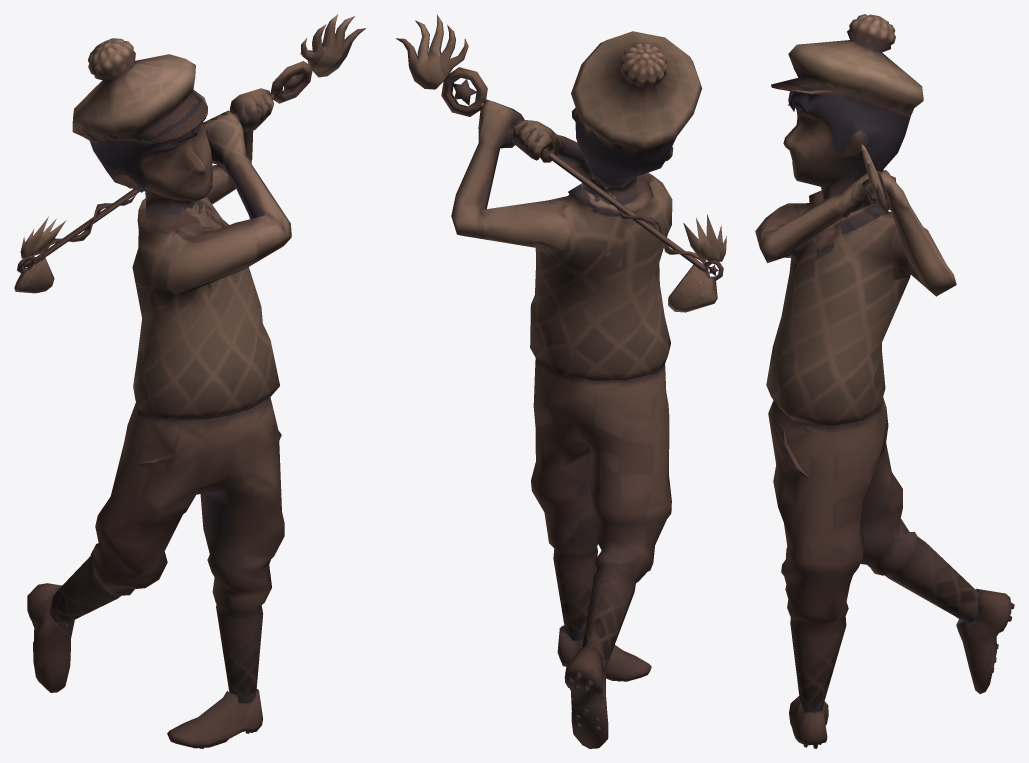
Rendered from golf_swing_pose.glb.
3 views of the same model, side by side, from view 1: azimuth 30°, elevation 25°; view 2: azimuth 150°, elevation 25°; view 3: azimuth 270°, elevation 25° (orthographic). The views are drawn at different scales.
Visible parts, largest first — view 1: golf_swing_pose_lowpoly; view 2: golf_swing_pose_lowpoly; view 3: golf_swing_pose_lowpoly.
Part boxes in pixels (x1,y1,x2,y2): golf_swing_pose_lowpoly: (14,14,365,748); golf_swing_pose_lowpoly: (395,14,726,748); golf_swing_pose_lowpoly: (755,14,1014,748).
Size of the model in its own units: 1.05 by 2.01 by 0.6967.
1 material, 1 textured.
